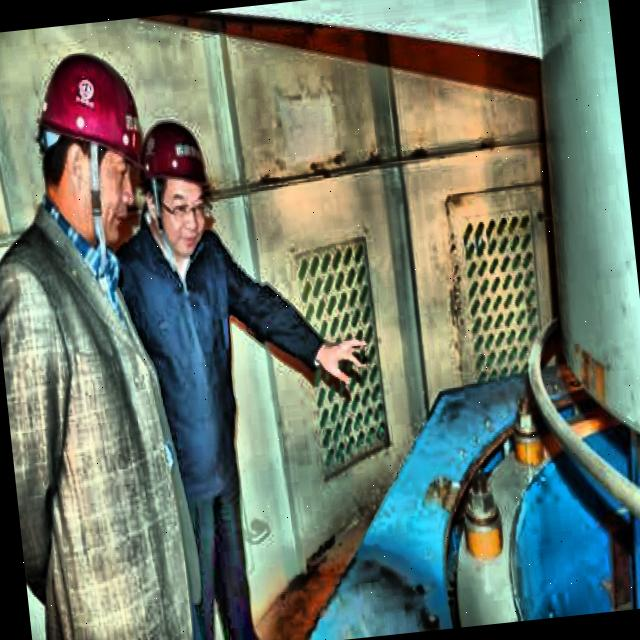helmet: (25, 46, 146, 244), (132, 113, 218, 259)
